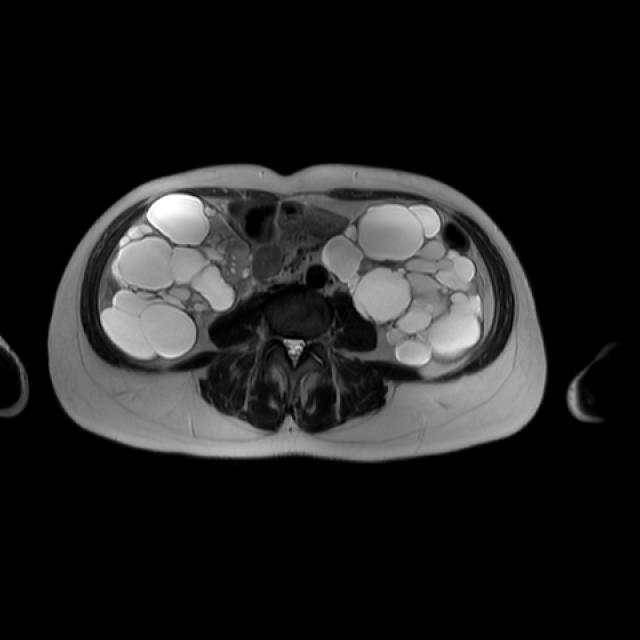sag: (103, 193, 250, 359)
sol: (323, 203, 484, 368)
